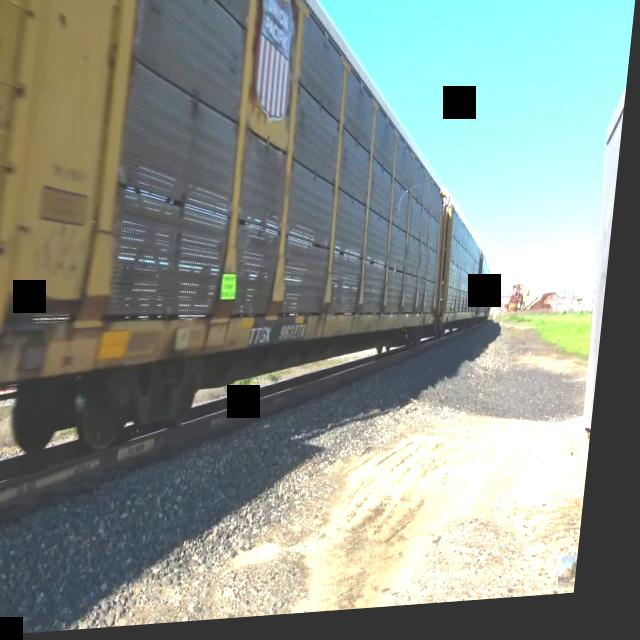autorack: (0, 0, 477, 476), (441, 194, 495, 353)
